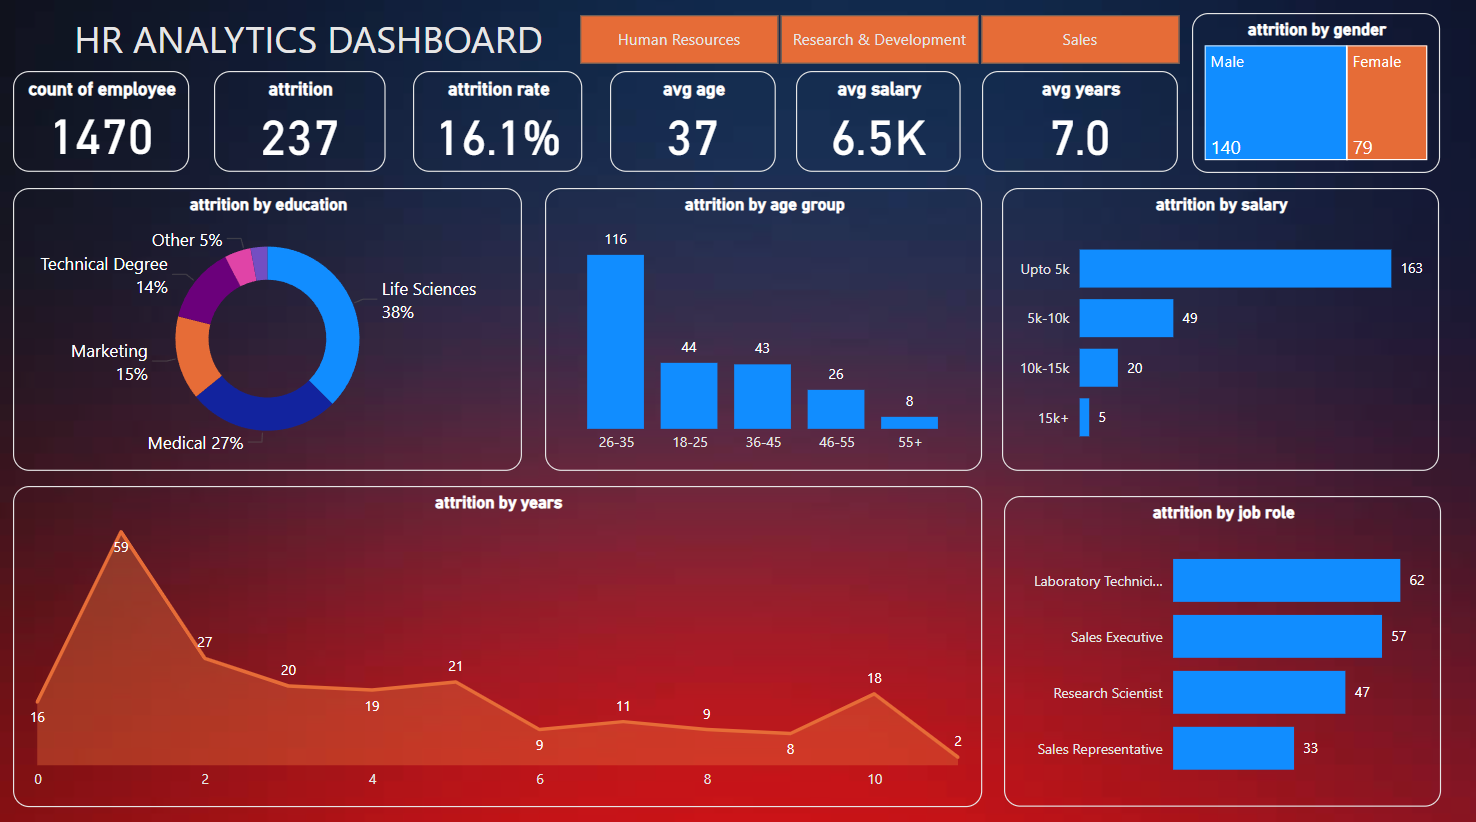

Layout of this report page (visuals, bound fields, positions):
{"tool":"powerbi","page":{"name":"Page 1","canvas":[1280,720],"ordinal":0},"visuals":[{"type":"card","title":"count of employee","fields":{"Values":["Count(Power bi projects.EmpID)"]},"box":[14.3,66,152,87.5],"z":0},{"type":"card","title":"attrition","fields":{"Values":["Sum(Power bi projects.attritionCount)"]},"box":[187.9,66,147.7,87.5],"z":1},{"type":"card","title":"attrition rate","fields":{"Values":["Power bi projects.attritionRate"]},"box":[360,66,146.3,87.5],"z":2},{"type":"card","title":"avg salary","fields":{"Values":["Avg(Power bi projects.MonthlyIncome)"]},"box":[689.9,66,142,87.5],"z":3},{"type":"card","title":"avg age","fields":{"Values":["Avg(Power bi projects.Age)"]},"box":[529.3,66,143.4,87.5],"z":4},{"type":"card","title":"avg years","fields":{"Values":["Avg(Power bi projects.YearsAtCompany)"]},"box":[850.6,66,169.3,87.5],"z":5},{"type":"donutChart","title":"attrition by education","fields":{"Y":["Sum(Power bi projects.attritionCount)"],"Category":["Power bi projects.EducationField"]},"box":[14.3,166.4,438.9,243.8],"z":6},{"type":"columnChart","title":"attrition by age group","fields":{"Category":["Power bi projects.AgeGroup"],"Y":["Sum(Power bi projects.attritionCount)"]},"box":[473.3,166.4,377.2,243.8],"z":7},{"type":"clusteredBarChart","title":"attrition by salary","fields":{"Category":["Power bi projects.SalarySlab"],"Y":["Sum(Power bi projects.attritionCount)"]},"box":[867.8,166.4,377.2,243.8],"z":9},{"type":"clusteredBarChart","title":"attrition by job role","fields":{"Category":["Power bi projects.JobRole"],"Y":["Sum(Power bi projects.attritionCount)"]},"box":[869.2,431.7,377.2,268.2],"z":10},{"type":"areaChart","title":"attrition by years","fields":{"Category":["Power bi projects.YearsAtCompany"],"Y":["Sum(Power bi projects.attritionCount)"]},"box":[14.3,423.1,836.2,276.8],"z":11},{"type":"treemap","title":"attrition by gender","fields":{"Group":["Power bi projects.Gender"],"Values":["Sum(Power bi projects.attritionCount)"]},"box":[1031.3,15.8,213.7,137.7],"z":12},{"type":"slicer","fields":{"Values":["Power bi projects.Department"]},"box":[477.6,10,566.6,55.9],"z":13},{"type":"textbox","box":[0,10,539.3,74.6],"z":14}]}

Visuals, with their boxes in screenshot pixels (x1, y1, x2, y2), scaled from the page's 1280x720 canvas onto the 1476x822 screenshot:
"count of employee" card: l=16, t=75, r=192, b=175
"attrition" card: l=217, t=75, r=387, b=175
"attrition rate" card: l=415, t=75, r=584, b=175
"avg salary" card: l=796, t=75, r=959, b=175
"avg age" card: l=610, t=75, r=776, b=175
"avg years" card: l=981, t=75, r=1176, b=175
"attrition by education" donutChart: l=16, t=190, r=523, b=468
"attrition by age group" columnChart: l=546, t=190, r=981, b=468
"attrition by salary" clusteredBarChart: l=1001, t=190, r=1436, b=468
"attrition by job role" clusteredBarChart: l=1002, t=493, r=1437, b=799
"attrition by years" areaChart: l=16, t=483, r=981, b=799
"attrition by gender" treemap: l=1189, t=18, r=1436, b=175
slicer - Power bi projects.Department: l=551, t=11, r=1204, b=75
textbox: l=0, t=11, r=622, b=97
